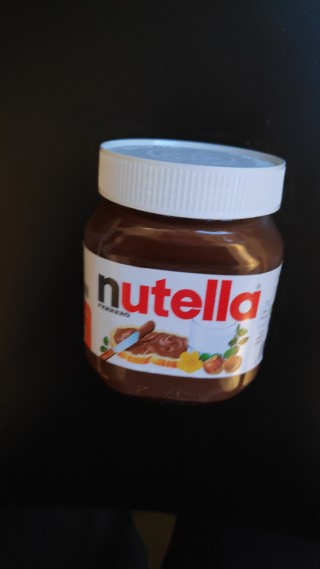nutella: (80, 134, 288, 412)
